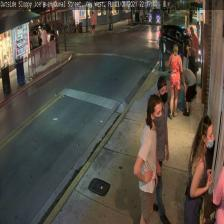person: (133, 94, 162, 224), (184, 114, 214, 224), (149, 76, 169, 224)
